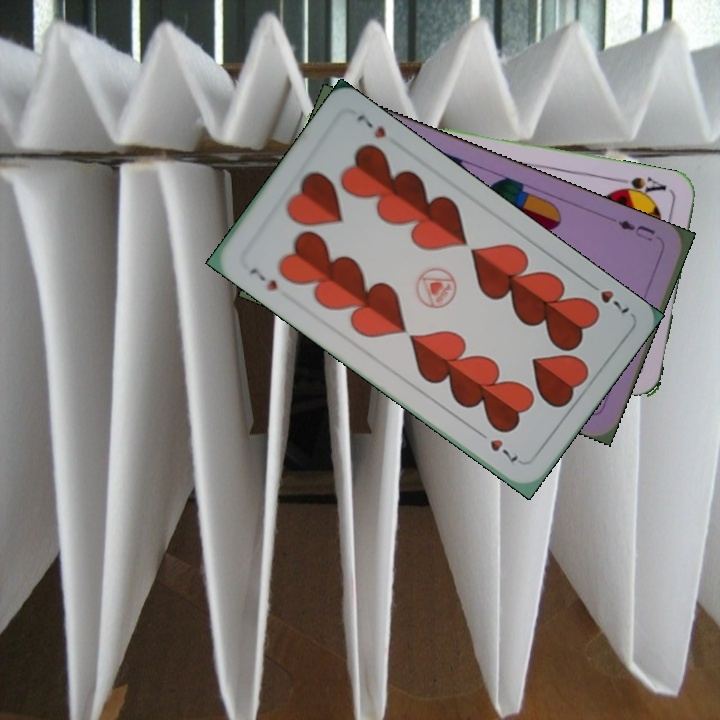EU: (613, 215, 658, 245)
H7: (582, 277, 632, 316), (246, 263, 280, 294)
SA: (611, 172, 669, 201)
